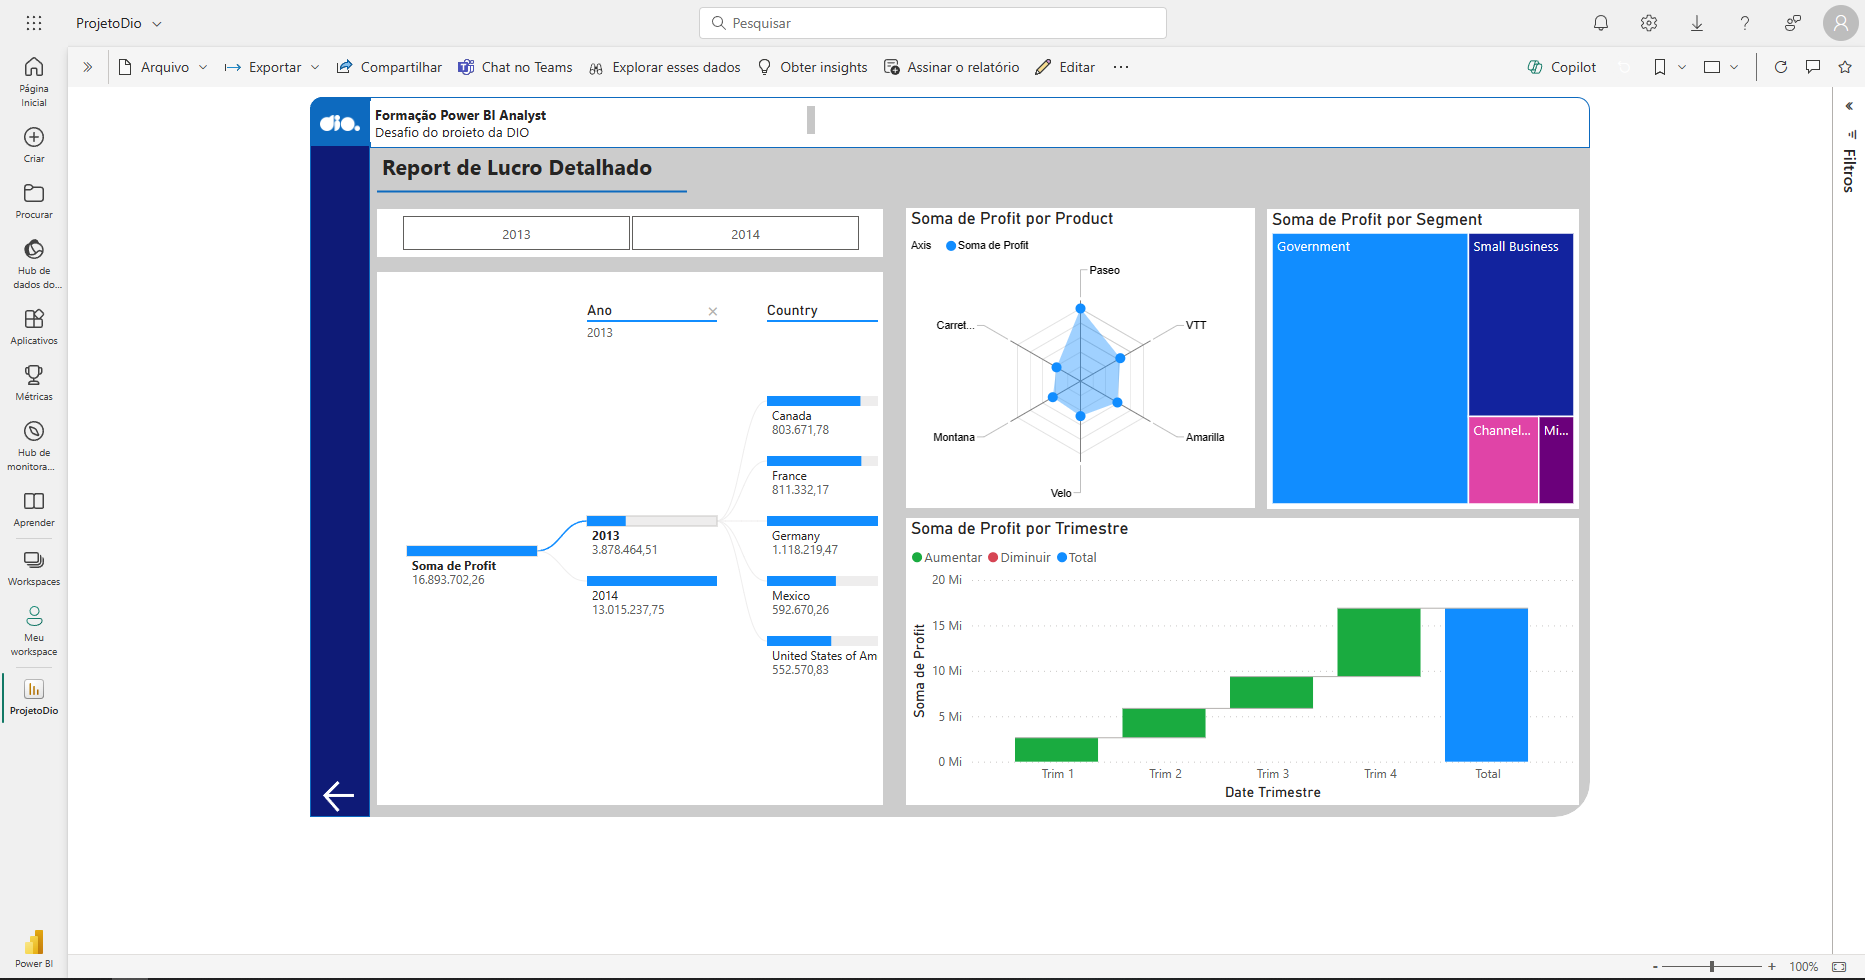

The page's visual inventory and layout, read from the dashboard file:
{"tool":"powerbi","page":{"name":"Página 2","canvas":[1280,720],"ordinal":1},"visuals":[{"type":"shape","box":[0,0,60.3,719.8],"z":0,"group":"g1"},{"type":"shape","title":"Base","box":[9.6,0,1270.1,720],"z":0},{"type":"shape","box":[60.3,0,1219.7,50.6],"z":0,"group":"g2"},{"type":"shape","box":[67,78.1,309.6,33.5],"z":0,"group":"g3"},{"type":"shape","box":[595.6,111,349.3,299.8],"z":0,"group":"g6"},{"type":"shape","box":[66.6,112.1,505.7,48.5],"z":0,"group":"g7"},{"type":"shape","box":[957,113.1,311.9,298.8],"z":0,"group":"g8"},{"type":"shape","box":[66.6,174.6,505.7,533],"z":0,"group":"g5"},{"type":"shape","box":[595.6,420.9,673.3,286.7],"z":0,"group":"g4"},{"type":"group","id":"g1","title":"Barra Lateral","box":[0,0,60.3,719.8],"z":1000},{"type":"shape","box":[0,0,60.3,48.6],"z":1000,"group":"g1"},{"type":"textbox","box":[60.3,3.9,450.3,40.9],"z":1000,"group":"g2"},{"type":"textbox","box":[66.8,50.1,467.6,47.2],"z":1000,"group":"g3"},{"type":"RadarChart1446119667547","fields":{"Y":["Sum(financials.Profit)"],"Category":["financials.Product"]},"box":[595.6,111,349.3,299.8],"z":1000,"group":"g6"},{"type":"slicer","fields":{"Values":["financials.Date.Variation.Hierarquia de datas.Ano"]},"box":[66.6,112.1,505.7,48.5],"z":1000,"group":"g7"},{"type":"treemap","fields":{"Values":["Sum(financials.Profit)"],"Group":["financials.Segment"]},"box":[957,112.1,311.9,299.8],"z":1000,"group":"g8"},{"type":"decompositionTreeVisual","fields":{"Analyze":["Sum(financials.Profit)"],"ExplainBy":["financials.Date.Variation.Hierarquia de datas.Ano","financials.Country"]},"box":[66.6,187.6,505.7,510],"z":1000,"group":"g5"},{"type":"waterfallChart","fields":{"Y":["Sum(financials.Profit)"],"Category":["financials.Date.Variation.Hierarquia de datas.Trimestre"]},"box":[595.6,420.9,673.3,286.7],"z":1000,"group":"g4"},{"type":"image","title":"LOGO DIO","box":[4.9,0,50.6,50.6],"z":2000,"group":"g1"},{"type":"group","id":"g2","title":"Titulo","box":[60.3,0,1219.7,50.6],"z":2000},{"type":"group","id":"g3","title":"Sales Report - Caixa de texto","box":[66.8,50.1,467.6,61.5],"z":3000},{"type":"group","id":"g4","title":"Profit","box":[595.6,420.9,673.3,286.7],"z":4000},{"type":"group","id":"g5","title":"Arvore","box":[66.6,174.6,505.7,533],"z":5000},{"type":"group","id":"g6","title":"Profit produto radar","box":[595.6,111,349.3,299.8],"z":6000},{"type":"group","id":"g7","title":"Segmentaçao por data","box":[66.6,112.1,505.7,48.5],"z":7000},{"type":"group","id":"g8","title":"Profit por segment","box":[957,112.1,311.9,299.8],"z":8000},{"type":"actionButton","box":[9.1,679.4,41.4,40.4],"z":8001,"group":"g1"}]}

Visuals, with their boxes on the page's 1280x720 design canvas (x1, y1, x2, y2). These are canvas units, not pixel positions in the 1865x980 screenshot, which may show the page scaled, cropped or inside an application window:
shape: left=0, top=0, right=60, bottom=720
"Base" shape: left=10, top=0, right=1280, bottom=720
shape: left=60, top=0, right=1280, bottom=51
shape: left=67, top=78, right=377, bottom=112
shape: left=596, top=111, right=945, bottom=411
shape: left=67, top=112, right=572, bottom=161
shape: left=957, top=113, right=1269, bottom=412
shape: left=67, top=175, right=572, bottom=708
shape: left=596, top=421, right=1269, bottom=708
"Barra Lateral" group: left=0, top=0, right=60, bottom=720
shape: left=0, top=0, right=60, bottom=49
textbox: left=60, top=4, right=511, bottom=45
textbox: left=67, top=50, right=534, bottom=97
RadarChart1446119667547 - Sum(financials.Profit) x financials.Product: left=596, top=111, right=945, bottom=411
slicer - financials.Date.Variation.Hierarquia de datas.Ano: left=67, top=112, right=572, bottom=161
treemap - Sum(financials.Profit) x financials.Segment: left=957, top=112, right=1269, bottom=412
decompositionTreeVisual - Sum(financials.Profit) x financials.Date.Variation.Hierarquia de datas.Ano: left=67, top=188, right=572, bottom=698
waterfallChart - Sum(financials.Profit) x financials.Date.Variation.Hierarquia de datas.Trimestre: left=596, top=421, right=1269, bottom=708
"LOGO DIO" image: left=5, top=0, right=56, bottom=51
"Titulo" group: left=60, top=0, right=1280, bottom=51
"Sales Report - Caixa de texto" group: left=67, top=50, right=534, bottom=112
"Profit" group: left=596, top=421, right=1269, bottom=708
"Arvore" group: left=67, top=175, right=572, bottom=708
"Profit produto radar" group: left=596, top=111, right=945, bottom=411
"Segmentaçao por data" group: left=67, top=112, right=572, bottom=161
"Profit por segment" group: left=957, top=112, right=1269, bottom=412
actionButton: left=9, top=679, right=50, bottom=720
